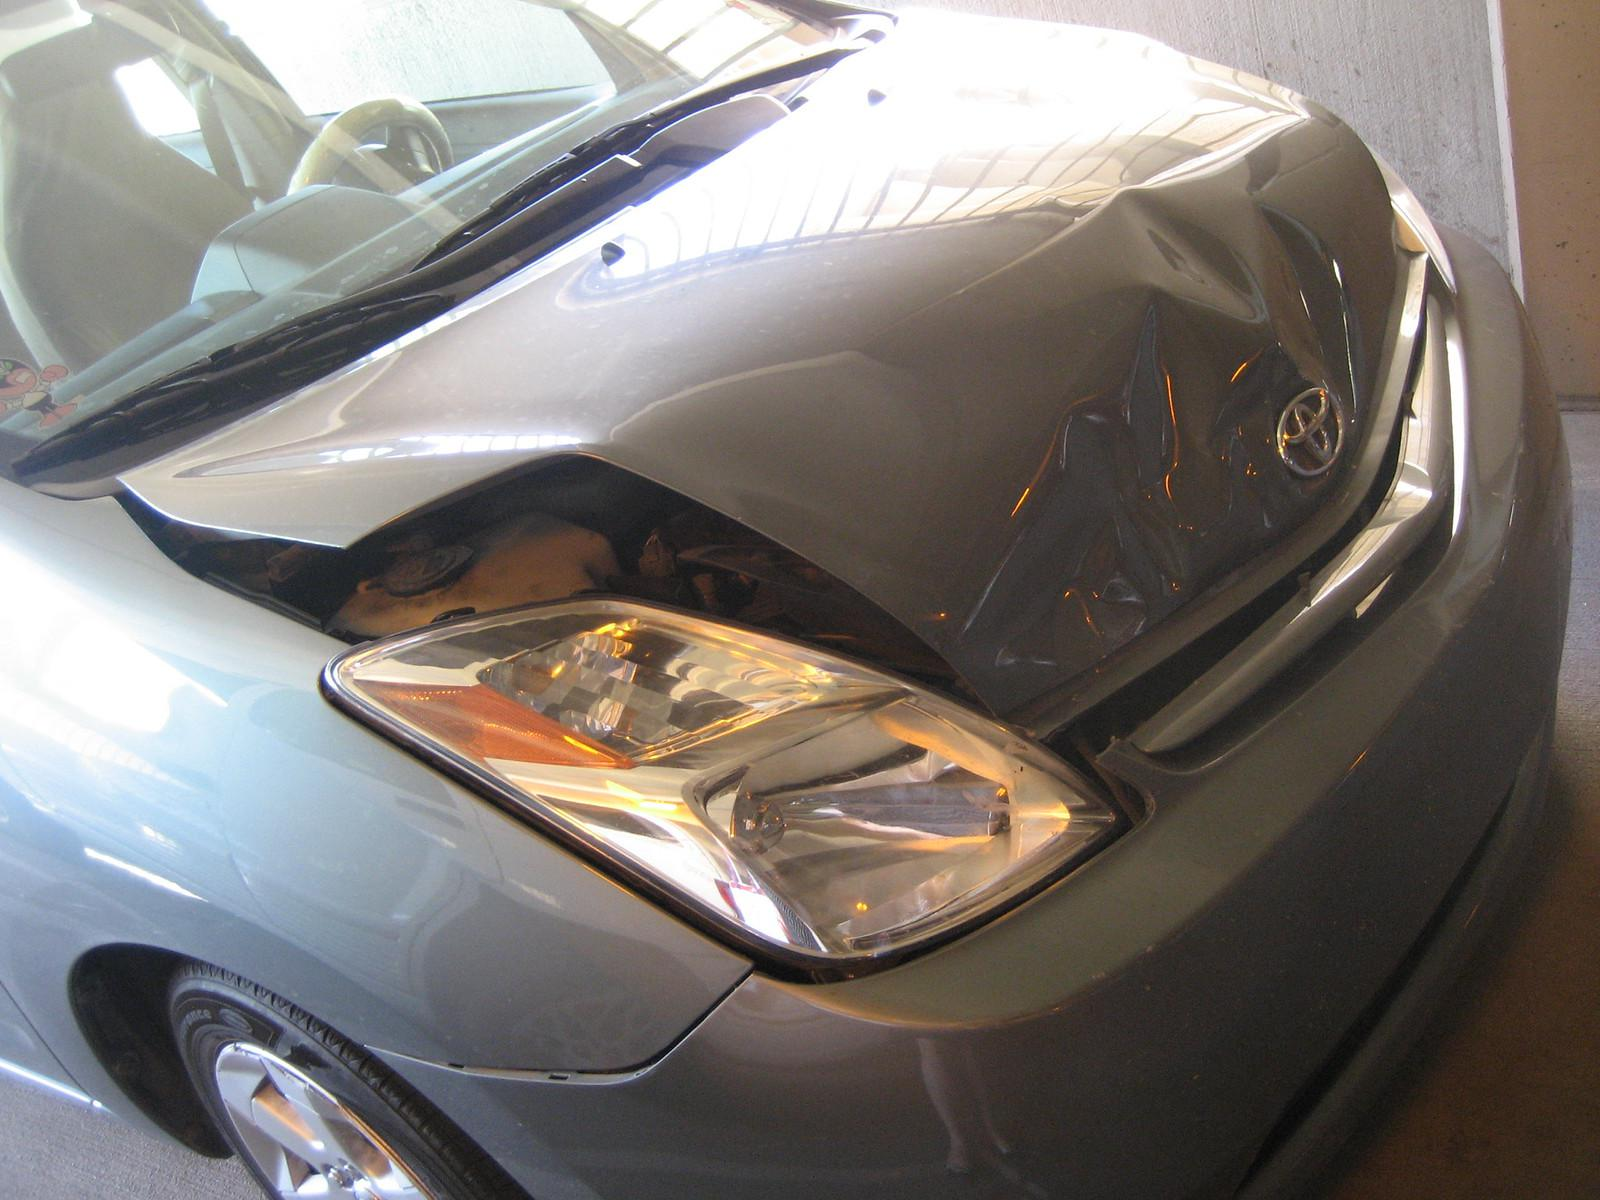bonnet-dent: (321, 103, 1364, 640)
